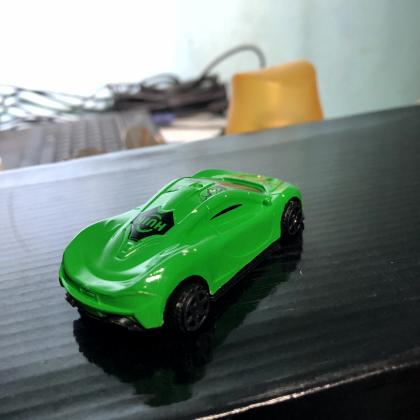Car: (58, 169, 304, 339)
